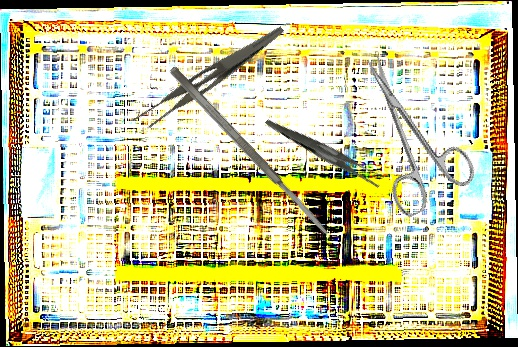Dressing Forceps: (130, 10, 286, 140), (264, 89, 387, 213)
Iris Scissors: (335, 38, 483, 221)
Spatula Surgical: (167, 64, 333, 240)
